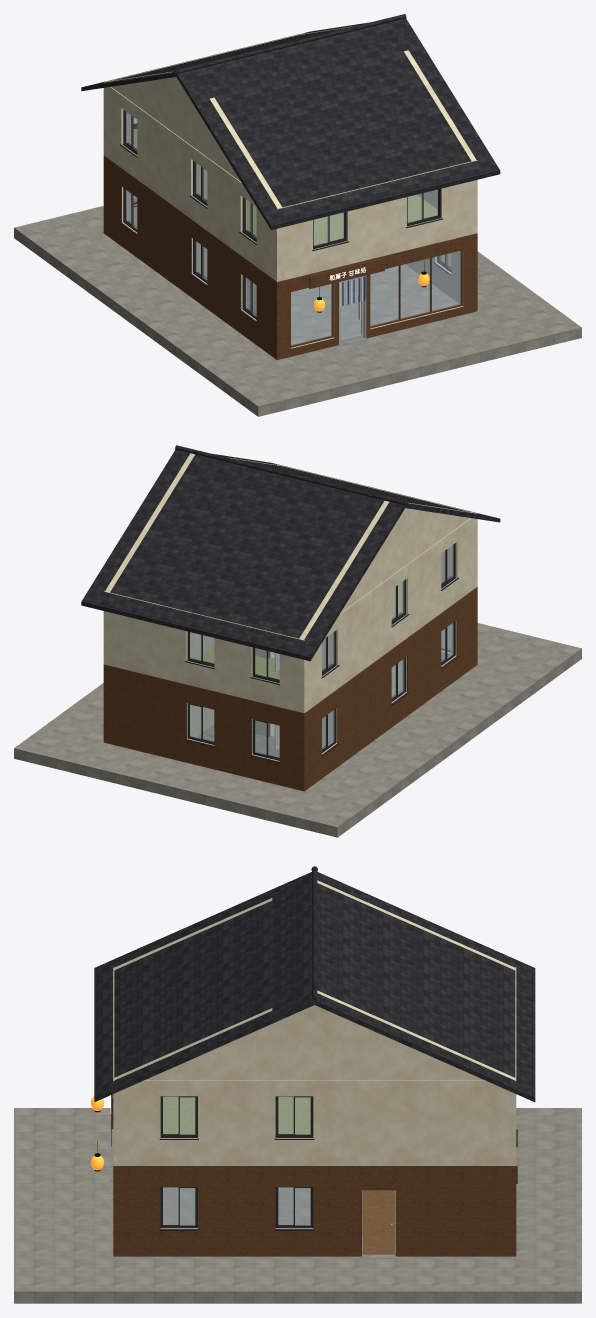
The model's file is b_kyoto_machiya.gltf.
3 views of the same model, one above another, from view 1: azimuth 30°, elevation 25°; view 2: azimuth 150°, elevation 25°; view 3: azimuth 270°, elevation 25° (orthographic). The views are drawn at different scales.
Parts seen in each view (by area): view 1: S_kyoto_machiya, D_kyoto_machiya_F1_S2_Door0; view 2: S_kyoto_machiya; view 3: S_kyoto_machiya, D_kyoto_machiya_F1_E2_Door0.
Part boxes in pixels (x1=…): S_kyoto_machiya: x1=14, y1=14, x2=581, y2=416; D_kyoto_machiya_F1_S2_Door0: x1=340, y1=277, x2=363, y2=342; S_kyoto_machiya: x1=14, y1=445, x2=581, y2=837; S_kyoto_machiya: x1=14, y1=866, x2=581, y2=1303; D_kyoto_machiya_F1_E2_Door0: x1=362, y1=1190, x2=395, y2=1254.
Size of the model in its own units: 13 by 9.25 by 17.
Materials: 24 (13 with a texture image).
